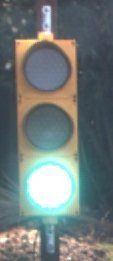Green: (12, 19, 84, 231)
